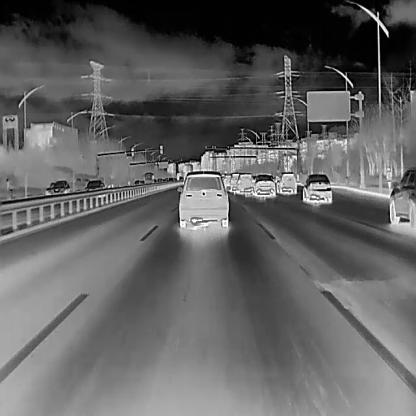bus: (142, 172, 154, 184)
car: (176, 169, 230, 227), (388, 166, 416, 228), (301, 173, 332, 203), (252, 173, 276, 197), (234, 172, 254, 194), (278, 172, 297, 194), (49, 180, 71, 195), (82, 179, 104, 193), (228, 172, 241, 190), (223, 175, 231, 185), (132, 179, 140, 185), (156, 178, 161, 184), (168, 176, 173, 182), (139, 179, 144, 184), (162, 177, 166, 183), (153, 178, 156, 182)
